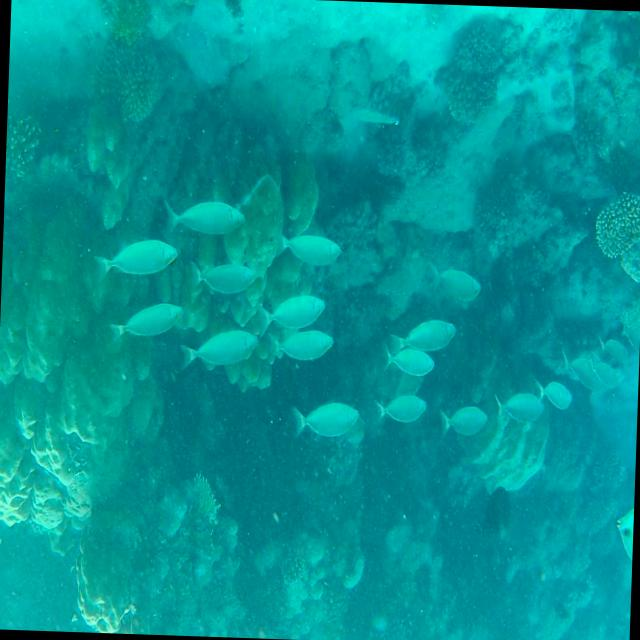Sokar Baligi: (84, 225, 190, 283), (95, 294, 188, 350), (160, 188, 248, 245), (264, 218, 348, 274), (172, 326, 262, 377), (287, 394, 363, 444)
